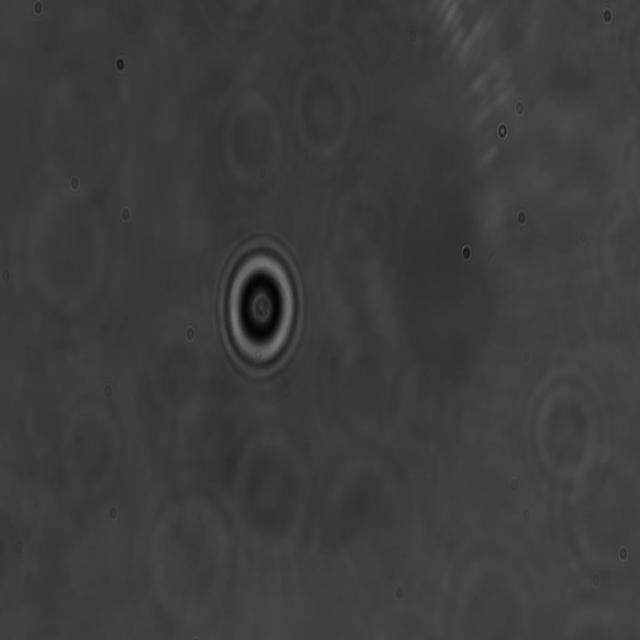LCELL: (215, 232, 308, 386)
